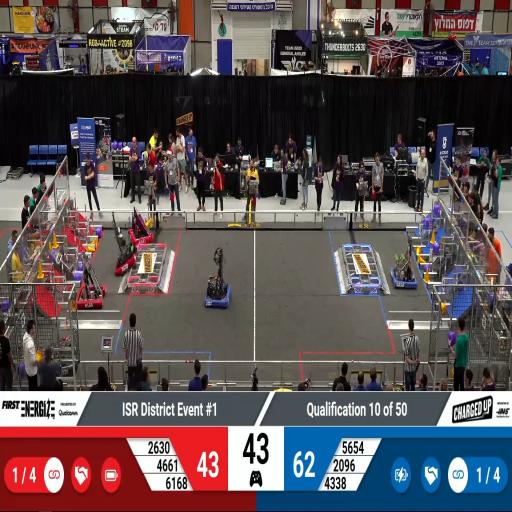robot: (204, 258, 234, 310), (45, 336, 79, 377), (76, 268, 106, 309), (389, 252, 419, 289), (128, 209, 154, 248), (115, 238, 137, 276)
